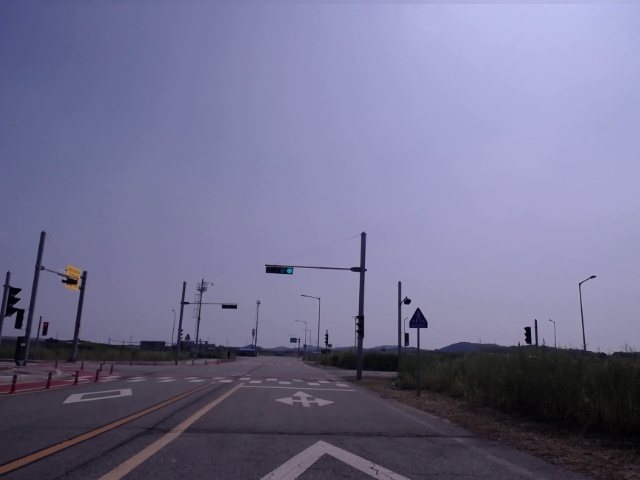straight_green_4: (266, 265, 294, 275)
